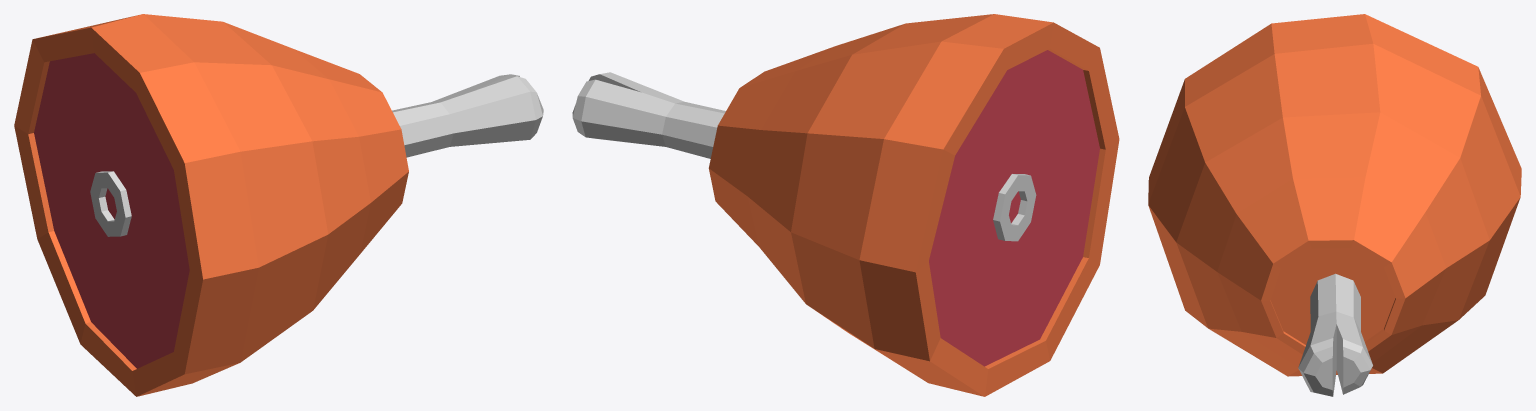
The model's file is ham.glb.
3 renders of one model, left to right at view 1: azimuth 30°, elevation 25°; view 2: azimuth 150°, elevation 25°; view 3: azimuth 270°, elevation 25°, orthographic. The views are drawn at different scales.
Visible parts, largest first — view 1: ham; view 2: ham; view 3: ham.
Boxes of the visible parts, x1,y1,x2,y2 form: ham: (14, 14, 543, 396); ham: (572, 14, 1119, 396); ham: (1148, 14, 1521, 396).
Bounding box in the file's own units: 0.1704 × 0.1284 × 0.134.
Materials: 1 (1 with a texture image).
